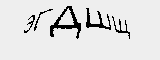Г: (34, 7, 51, 30)
Д: (50, 2, 81, 36)
Ш: (84, 7, 110, 32)
Щ: (112, 15, 130, 37)
Э: (22, 10, 34, 35)
